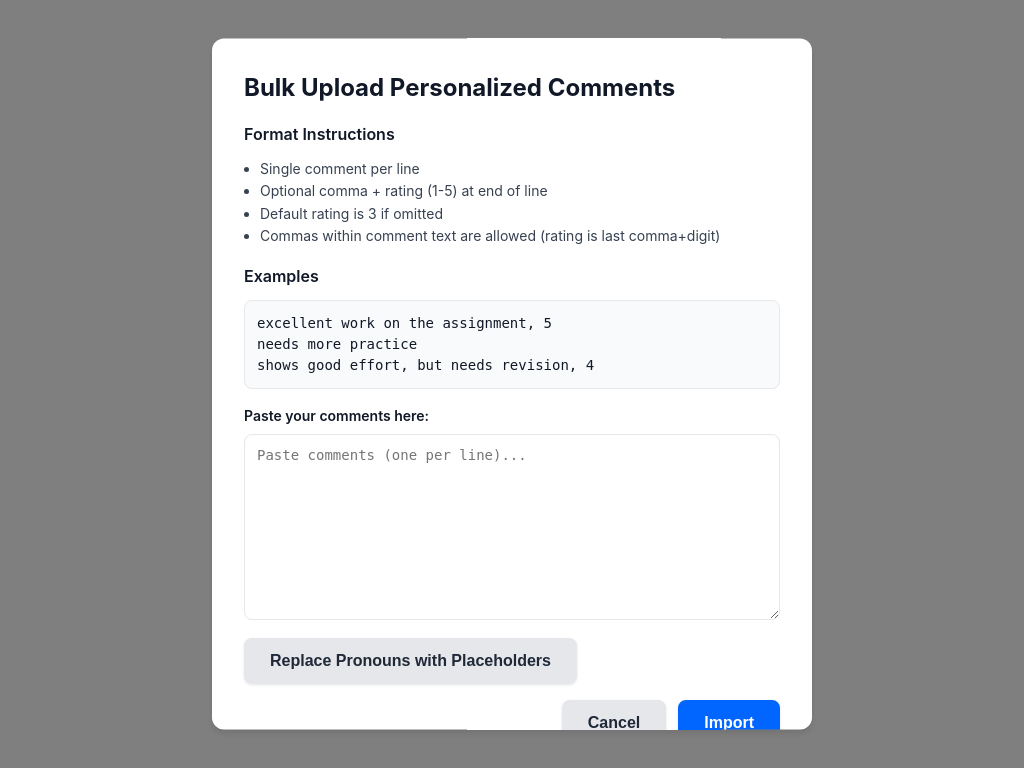
Scenario: BulkUploadModal - Story 6 & 7: Edge Cases and Results › AC1: Validation errors › should show validation error for empty textarea
The width and height of the screenshot is (1024, 768).
Click the button "Import".
click(729, 723)  # box [678, 700, 780, 746]
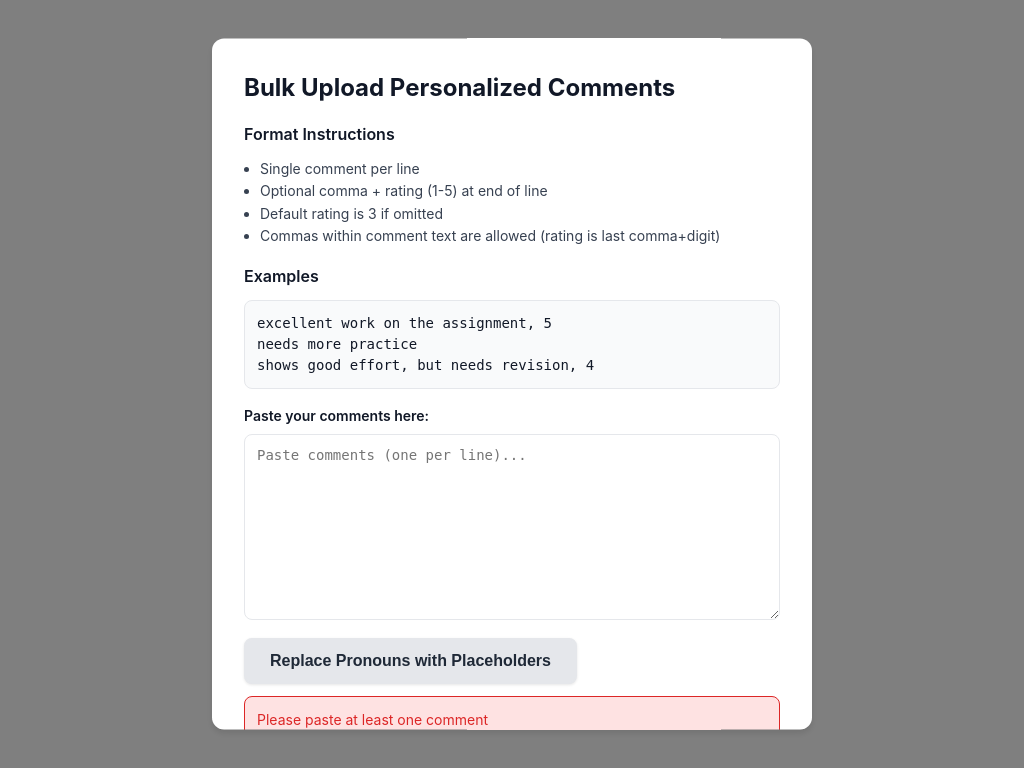
Now the text "Please paste at least one comment" is shown, box [244, 696, 780, 730]
